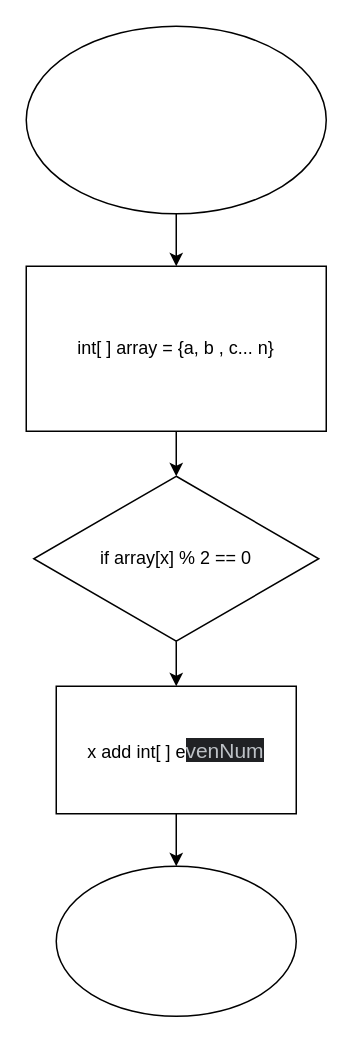
Some shapes in this 353 by 1043 pixel diagram are drawn without their labels. Here are the shapes that lost their labels. From the top down, the centre of each, then its label:
the point at 175,119: Start
the point at 175,940: print evenNum
